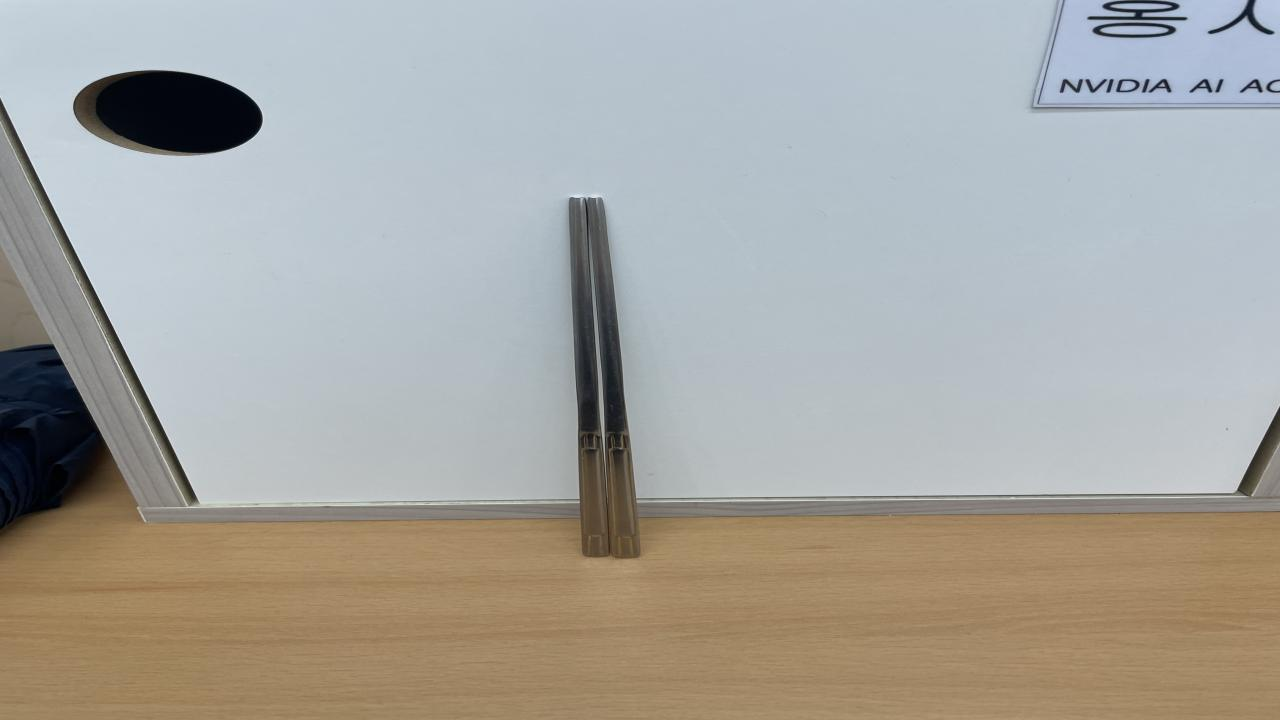chopstick: (565, 196, 650, 560)
